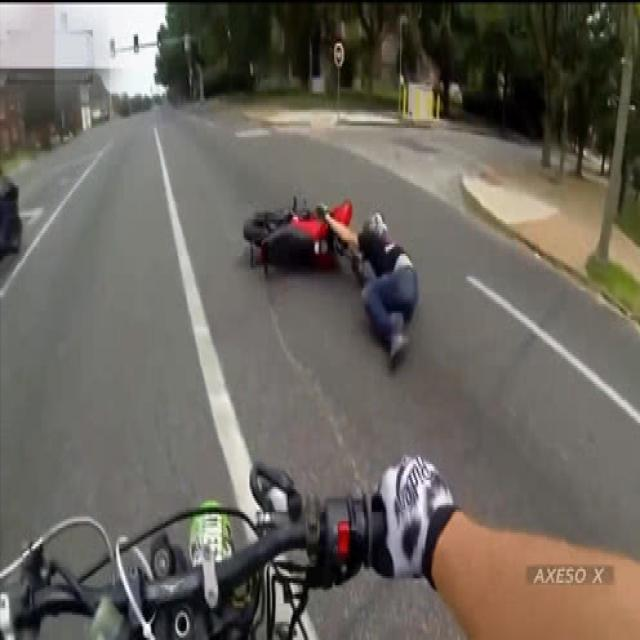fall: (328, 201, 422, 361)
